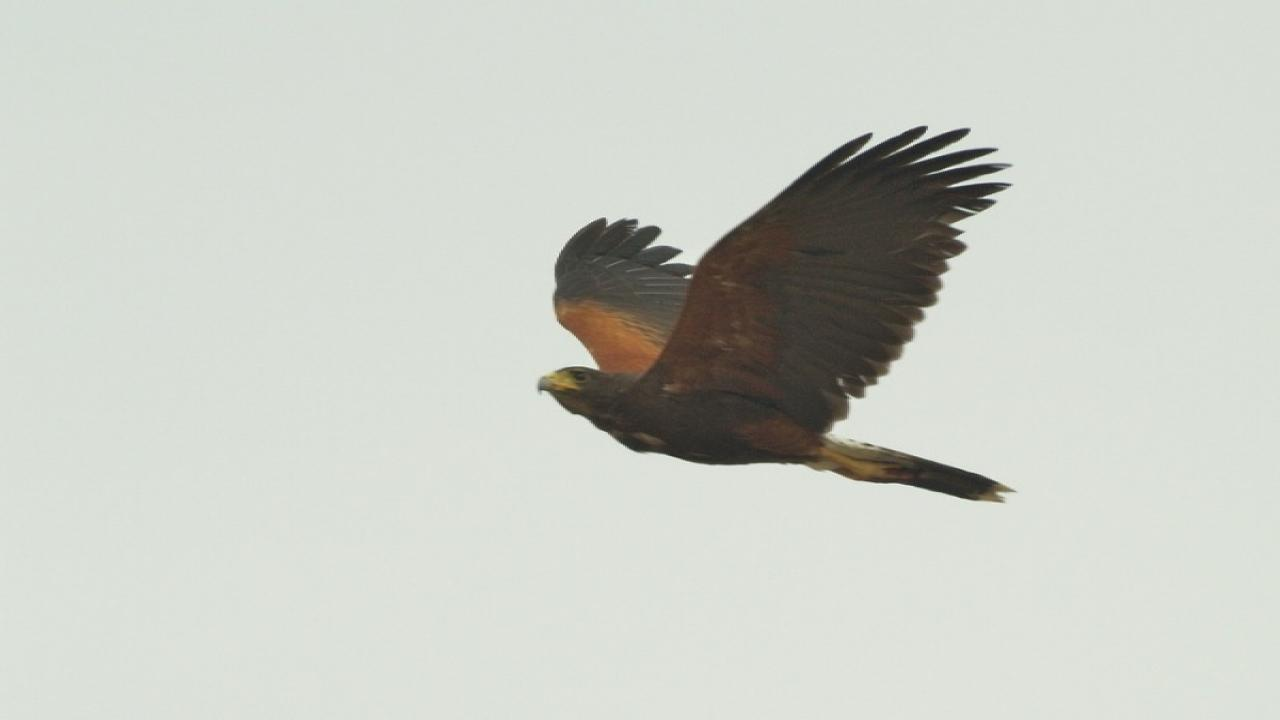Bird: (520, 119, 1048, 514)
